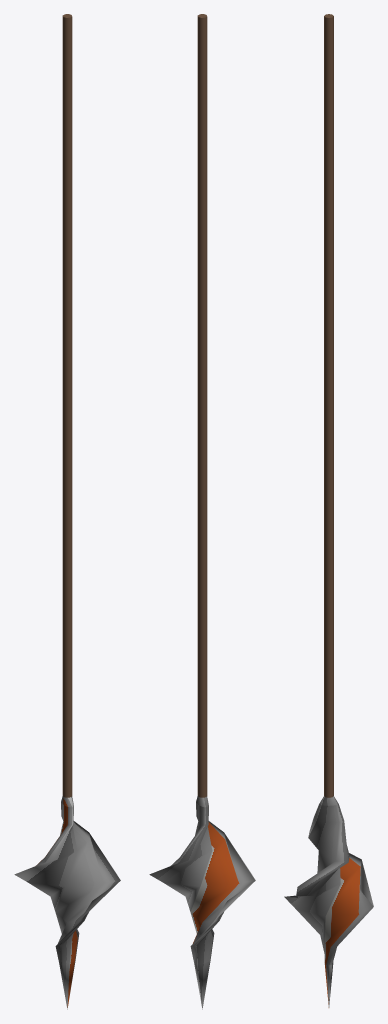
File: HangingLight_06.fbx
3 renders of one model, left to right at view 1: azimuth 30°, elevation 25°; view 2: azimuth 210°, elevation 25°; view 3: azimuth 270°, elevation 25°, orthographic.
Visible parts, largest first — view 1: CylidricalHangingLight.002, CylidricalHangingLight.006, CylidricalHangingLight.009, CylidricalHangingLight.011, CylidricalHangingLight.007, CylidricalHangingLight.012, CylidricalHangingLight.008, CylidricalHangingLight.010, CylidricalHangingLight.005; view 2: CylidricalHangingLight.002, CylidricalHangingLight.006, CylidricalHangingLight.009, CylidricalHangingLight.011, CylidricalHangingLight.007, CylidricalHangingLight.012, CylidricalHangingLight.008, CylidricalHangingLight.010, CylidricalHangingLight.005; view 3: CylidricalHangingLight.002, CylidricalHangingLight.006, CylidricalHangingLight.008, CylidricalHangingLight.010, CylidricalHangingLight.012, CylidricalHangingLight.007, CylidricalHangingLight.009, CylidricalHangingLight.005, CylidricalHangingLight.011.
Boxes of the visible parts, x1,y1,x2,y2 form: CylidricalHangingLight.002: (14,795,120,1009); CylidricalHangingLight.006: (62,14,72,115); CylidricalHangingLight.009: (62,405,72,505); CylidricalHangingLight.011: (62,600,72,700); CylidricalHangingLight.007: (62,210,72,310); CylidricalHangingLight.012: (62,698,72,797); CylidricalHangingLight.008: (62,308,72,407); CylidricalHangingLight.010: (62,503,72,602); CylidricalHangingLight.005: (62,113,72,212); CylidricalHangingLight.002: (149,795,255,1009); CylidricalHangingLight.006: (197,14,207,115); CylidricalHangingLight.009: (197,405,207,505); CylidricalHangingLight.011: (197,600,207,700); CylidricalHangingLight.007: (197,210,207,310); CylidricalHangingLight.012: (197,698,207,797); CylidricalHangingLight.008: (197,308,207,407); CylidricalHangingLight.010: (197,503,207,602); CylidricalHangingLight.005: (197,113,207,212); CylidricalHangingLight.002: (284,796,373,1007); CylidricalHangingLight.006: (324,14,333,115); CylidricalHangingLight.008: (324,308,333,407); CylidricalHangingLight.010: (324,503,333,602); CylidricalHangingLight.012: (324,698,333,797); CylidricalHangingLight.007: (324,211,333,310); CylidricalHangingLight.009: (324,406,333,505); CylidricalHangingLight.005: (324,114,333,212); CylidricalHangingLight.011: (324,601,333,700).
Bounding box in the file's own units: 146 × 1870 × 153.
